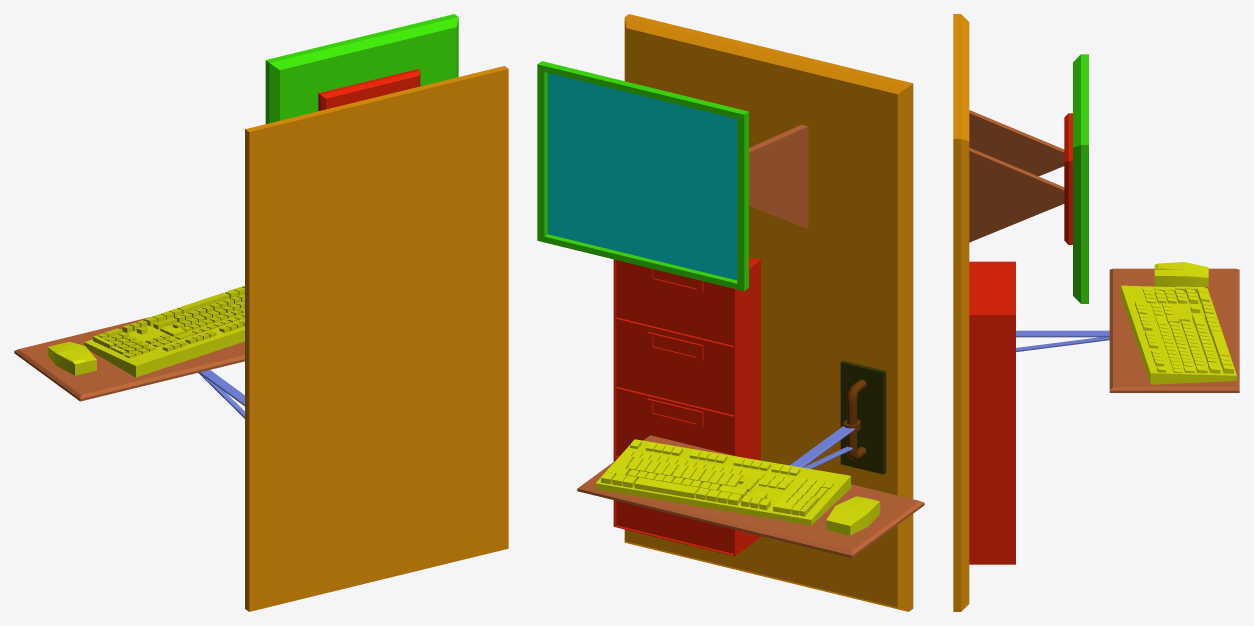
The model's file is Bedside_computer.fbx.
3 views of the same model, side by side, from view 1: azimuth 30°, elevation 25°; view 2: azimuth 150°, elevation 25°; view 3: azimuth 270°, elevation 25° (orthographic). The views are drawn at different scales.
Parts seen in each view (by area): view 1: Bedside_Computer; view 2: Bedside_Computer; view 3: Bedside_Computer.
Part boxes in pixels (left/top/right/bottom): Bedside_Computer: left=14, top=14, right=508, bottom=611; Bedside_Computer: left=537, top=14, right=924, bottom=611; Bedside_Computer: left=953, top=14, right=1239, bottom=611.
Size of the model in its own units: 1.19 by 1.5 by 0.8203.
